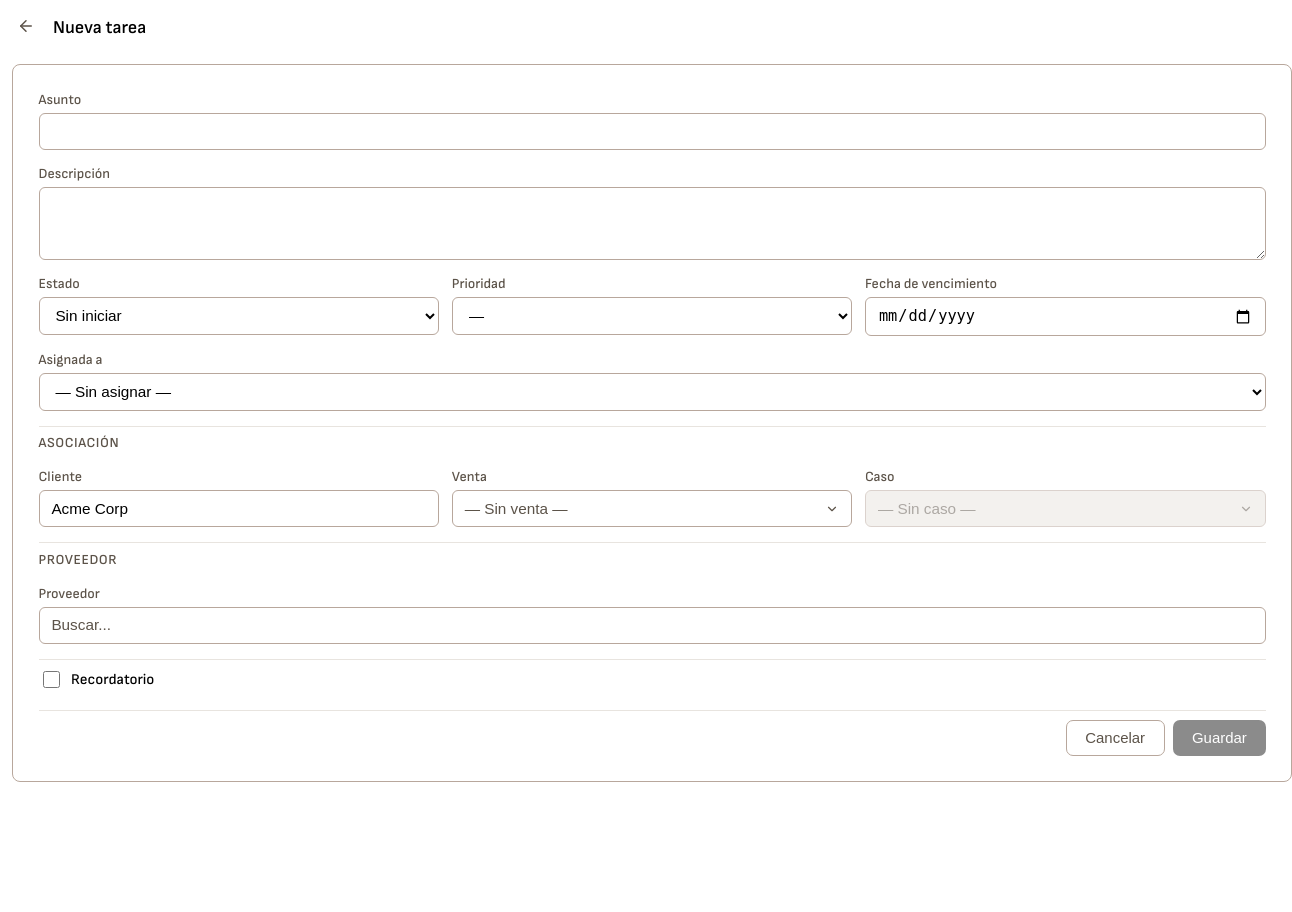
TaskForm › save button is enabled when subject has a value and client is locked
The width and height of the screenshot is (1292, 912).
Type "My task" into the field labelled "Asunto" at (652, 132), box [38,113,1266,150]
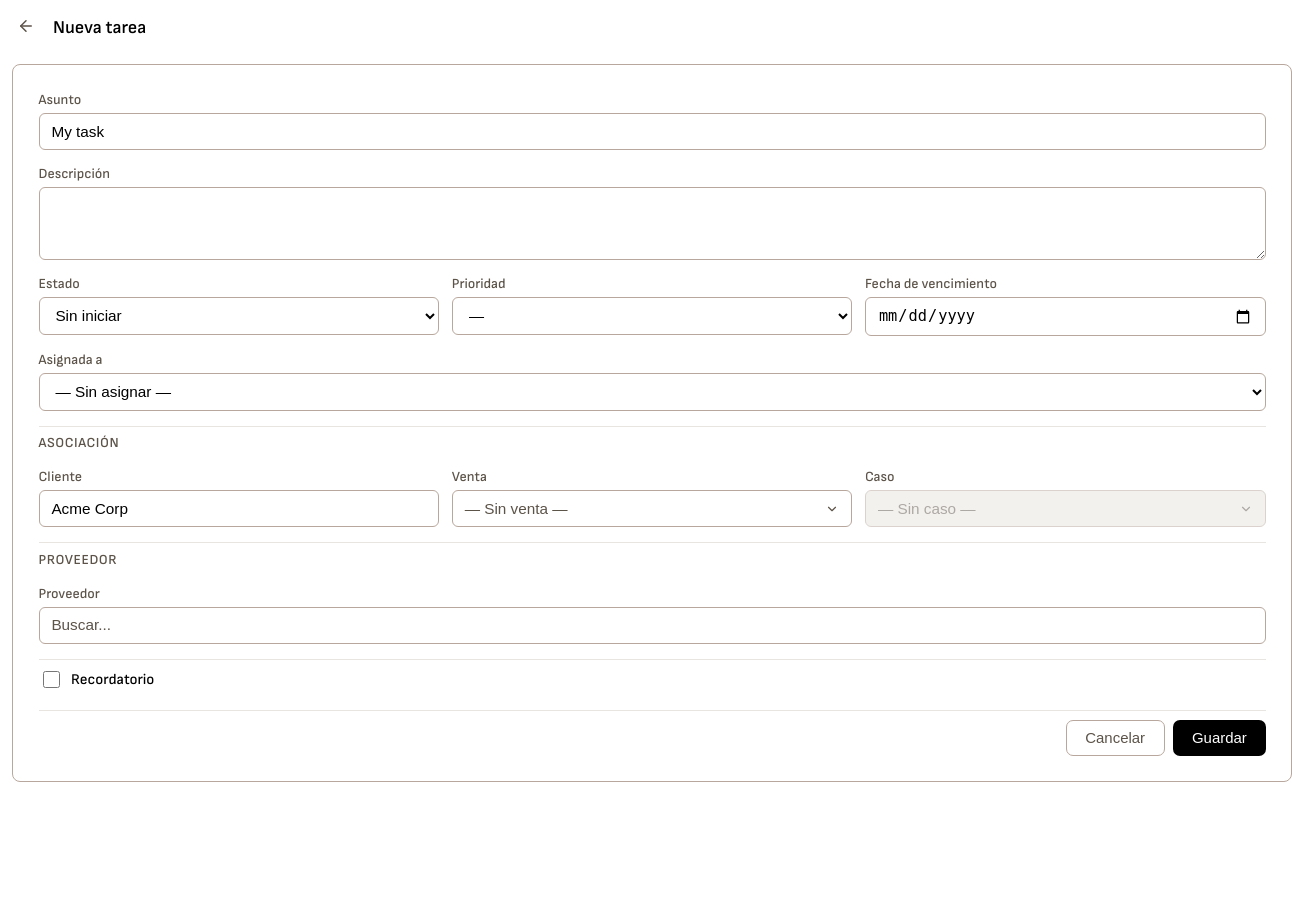
Check: the button "Guardar" is enabled, box [1173,720,1266,756]
